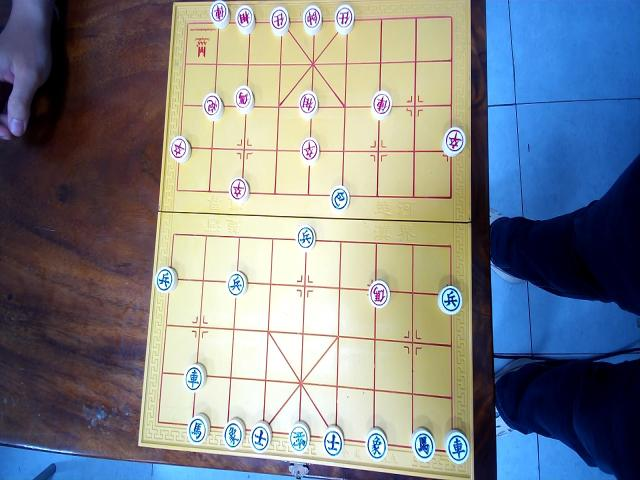piece: (445, 430, 469, 463), (411, 428, 434, 462), (250, 421, 272, 453), (187, 413, 209, 445), (438, 286, 462, 315), (366, 428, 387, 461), (442, 127, 465, 157), (223, 418, 244, 450), (289, 422, 310, 453), (183, 364, 206, 392), (323, 425, 343, 457), (371, 90, 391, 121), (302, 5, 322, 36), (228, 177, 250, 205), (235, 5, 255, 35), (368, 280, 390, 307), (335, 4, 354, 35), (209, 0, 229, 29), (154, 267, 177, 292), (270, 6, 289, 36), (170, 136, 191, 163), (234, 86, 254, 114), (203, 93, 223, 121), (300, 137, 319, 166), (299, 90, 318, 119), (227, 271, 247, 297), (296, 225, 315, 251), (330, 186, 349, 212)
